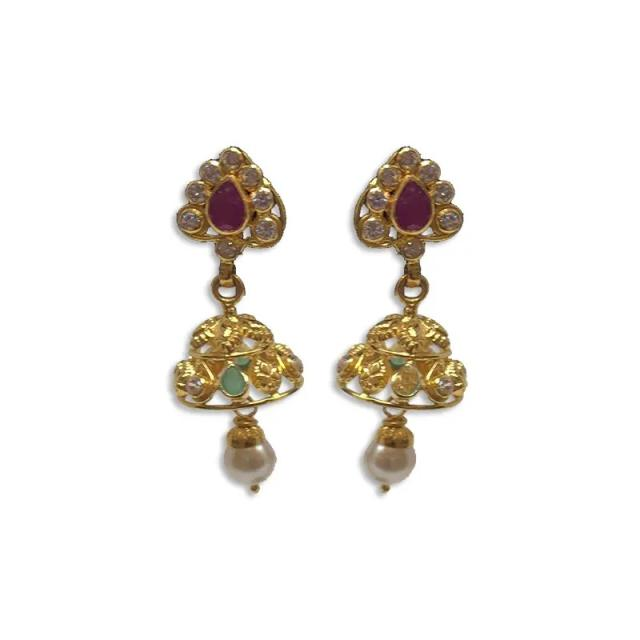missing gem: (394, 366, 418, 395)
